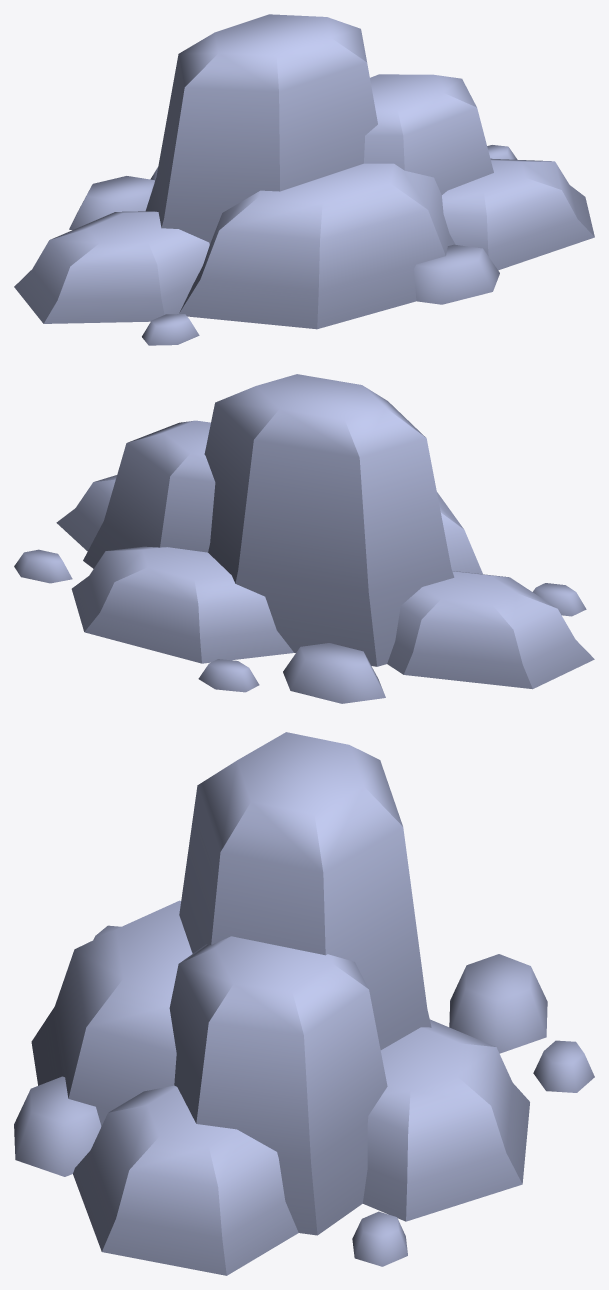
Rendered from rocks-tall_lev2.glb.
3 renders of one model, top to bottom at view 1: azimuth 30°, elevation 25°; view 2: azimuth 150°, elevation 25°; view 3: azimuth 270°, elevation 25°, orthographic. The views are drawn at different scales.
Parts seen in each view (by area): view 1: rocks-tall_lev2; view 2: rocks-tall_lev2; view 3: rocks-tall_lev2.
Part boxes in pixels (x1=…): rocks-tall_lev2: x1=14, y1=14, x2=594, y2=345; rocks-tall_lev2: x1=14, y1=374, x2=594, y2=703; rocks-tall_lev2: x1=14, y1=732, x2=594, y2=1275.
Size of the model in its own units: 15.5 by 5.88 by 10.2.
1 material, 1 textured.
